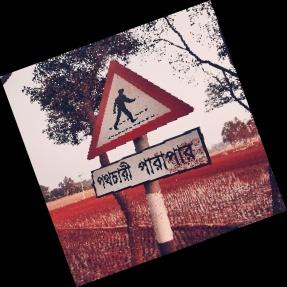Pedestrian-crossing: (86, 60, 208, 203)
